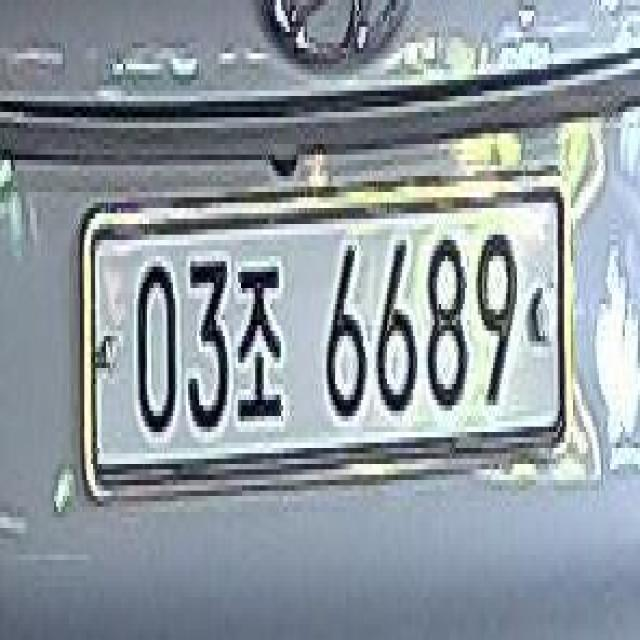illegal_plate: (83, 172, 569, 489)
